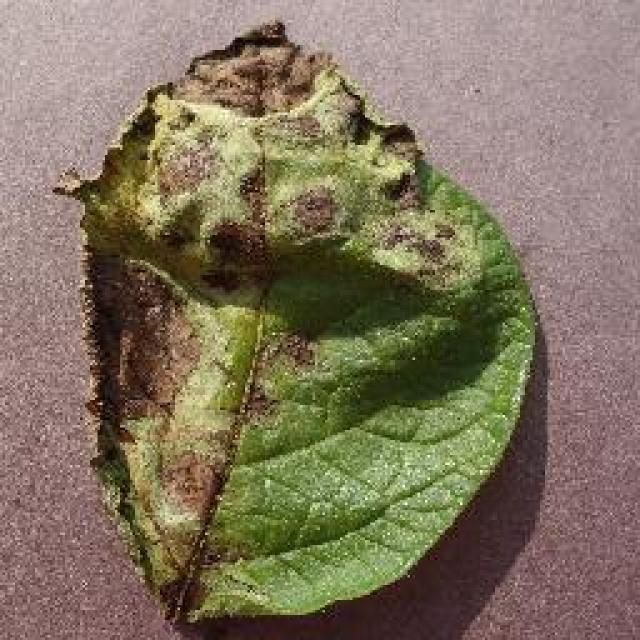late_blight: (52, 15, 540, 630)
